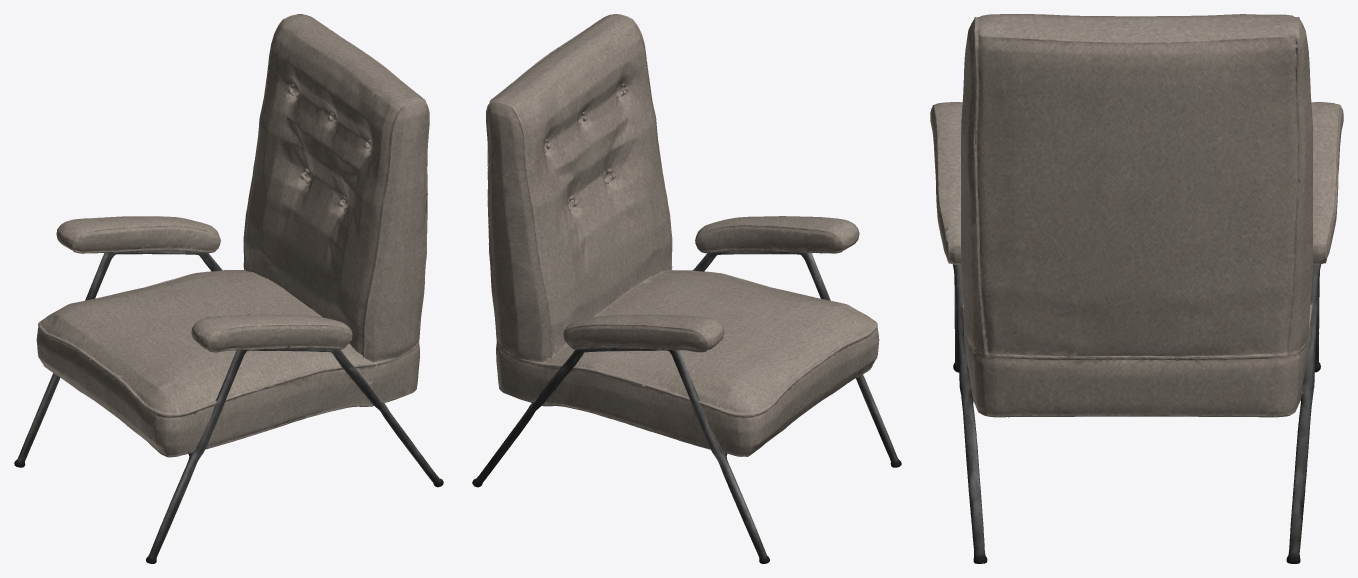
Rendered from chair.glb.
3 renders of one model, left to right at view 1: azimuth 30°, elevation 25°; view 2: azimuth 150°, elevation 25°; view 3: azimuth 270°, elevation 25°, orthographic. The views are drawn at different scales.
Parts seen in each view (by area): view 1: geometry_0; view 2: geometry_0; view 3: geometry_0.
Part boxes in pixels (box(x1,y1,x2,y2)): geometry_0: box(14, 14, 443, 563); geometry_0: box(472, 14, 901, 563); geometry_0: box(930, 14, 1343, 563).
Size of the model in its own units: 0.8128 by 1 by 0.7126.
Materials: 1 (1 with a texture image).
